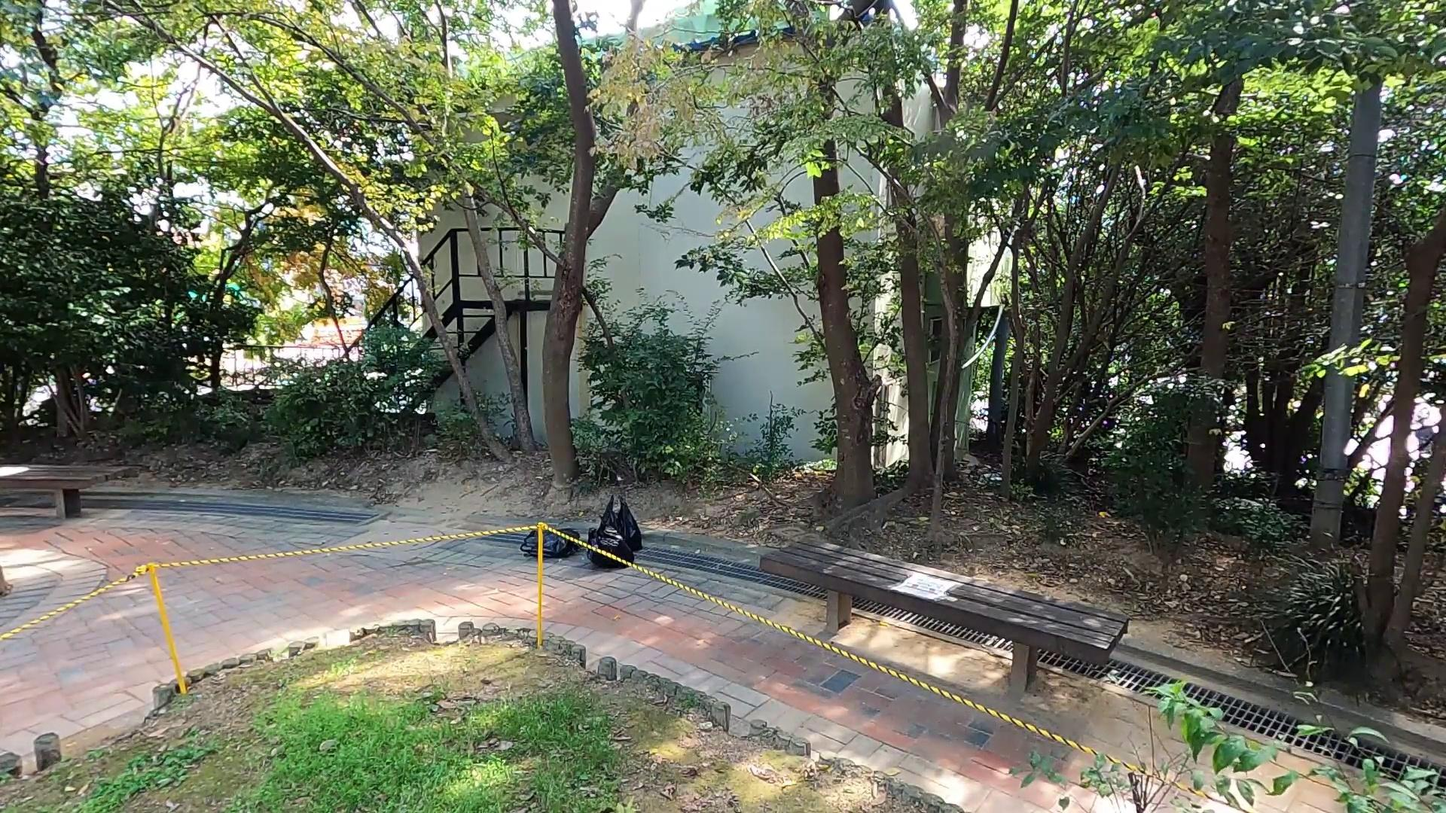trash: (596, 486, 645, 554), (517, 515, 584, 564), (587, 516, 637, 571)
